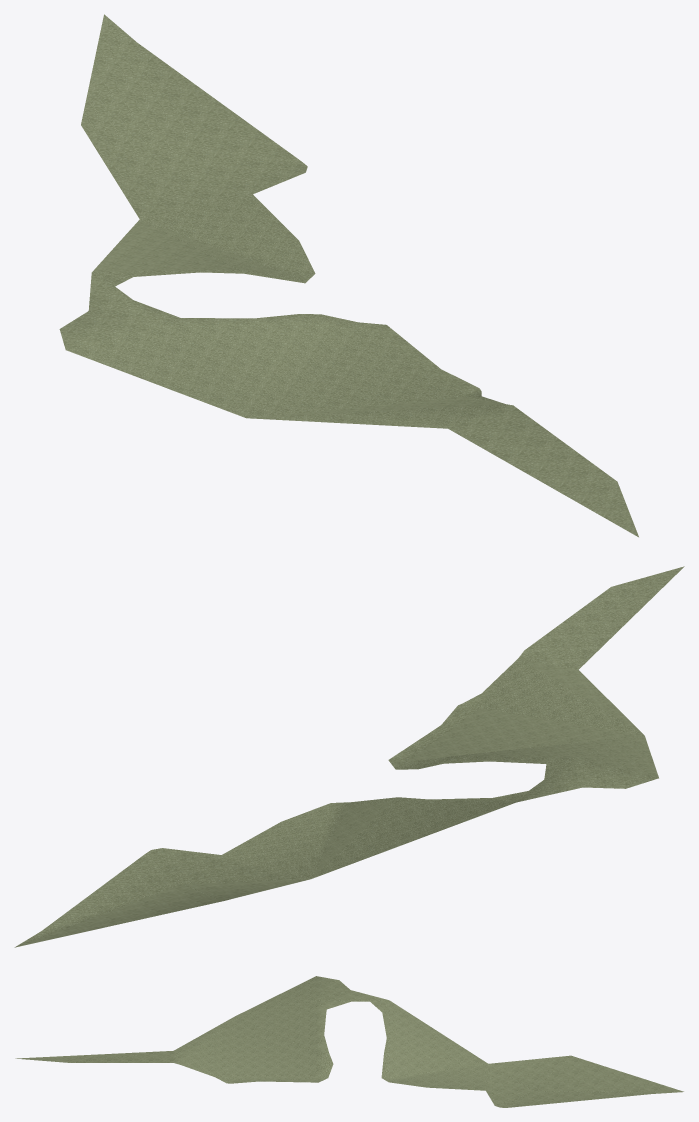
Rendered from kd_stage_135ded_4_123_exterior_piece_0.glb.
3 views of the same model, one above another, from view 1: azimuth 30°, elevation 25°; view 2: azimuth 150°, elevation 25°; view 3: azimuth 270°, elevation 25° (orthographic). The views are drawn at different scales.
Parts seen in each view (by area): view 1: kd_stage_135ded_4_123_exterior_piece_0; view 2: kd_stage_135ded_4_123_exterior_piece_0; view 3: kd_stage_135ded_4_123_exterior_piece_0.
Part boxes in pixels (left/top/right/bottom): kd_stage_135ded_4_123_exterior_piece_0: left=59, top=14, right=638, bottom=537; kd_stage_135ded_4_123_exterior_piece_0: left=14, top=566, right=684, bottom=947; kd_stage_135ded_4_123_exterior_piece_0: left=15, top=976, right=683, bottom=1107.
Bounding box in the file's own units: 3.05 × 0.3778 × 8.3.
1 material, 1 textured.
